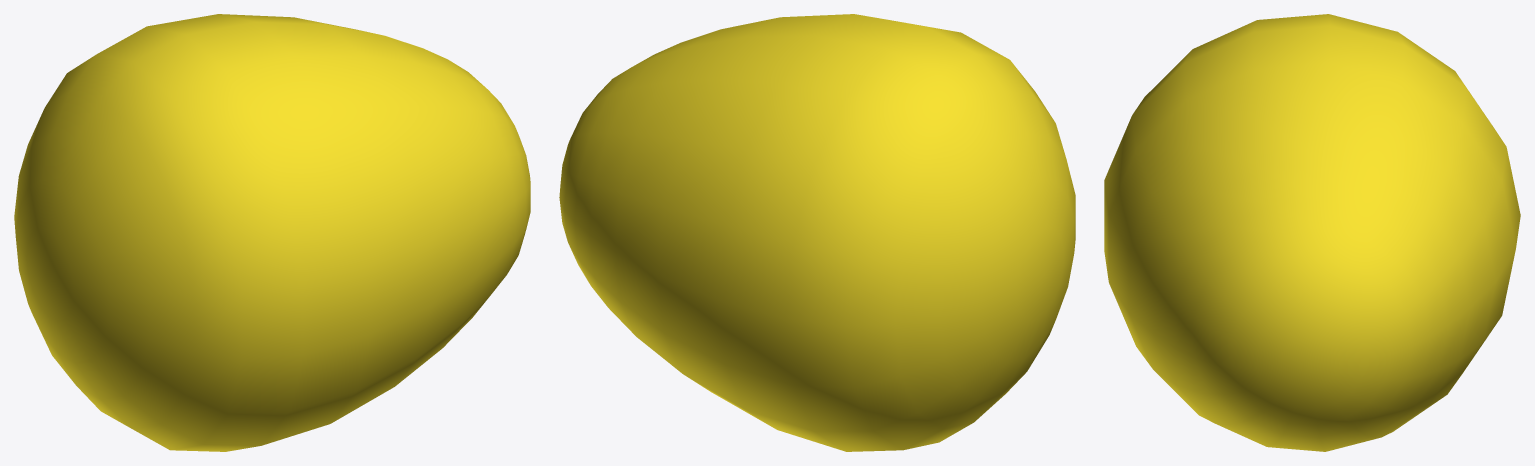
The model's file is YellowLongCandy.fbx.
3 views of the same model, side by side, from view 1: azimuth 30°, elevation 25°; view 2: azimuth 150°, elevation 25°; view 3: azimuth 270°, elevation 25° (orthographic). The views are drawn at different scales.
Visible parts, largest first — view 1: LongCandy; view 2: LongCandy; view 3: LongCandy.
Boxes of the visible parts, x1,y1,x2,y2 form: LongCandy: (14, 14, 530, 451); LongCandy: (559, 14, 1075, 451); LongCandy: (1104, 14, 1520, 451).
Bounding box in the file's own units: 124 × 100 × 100.
